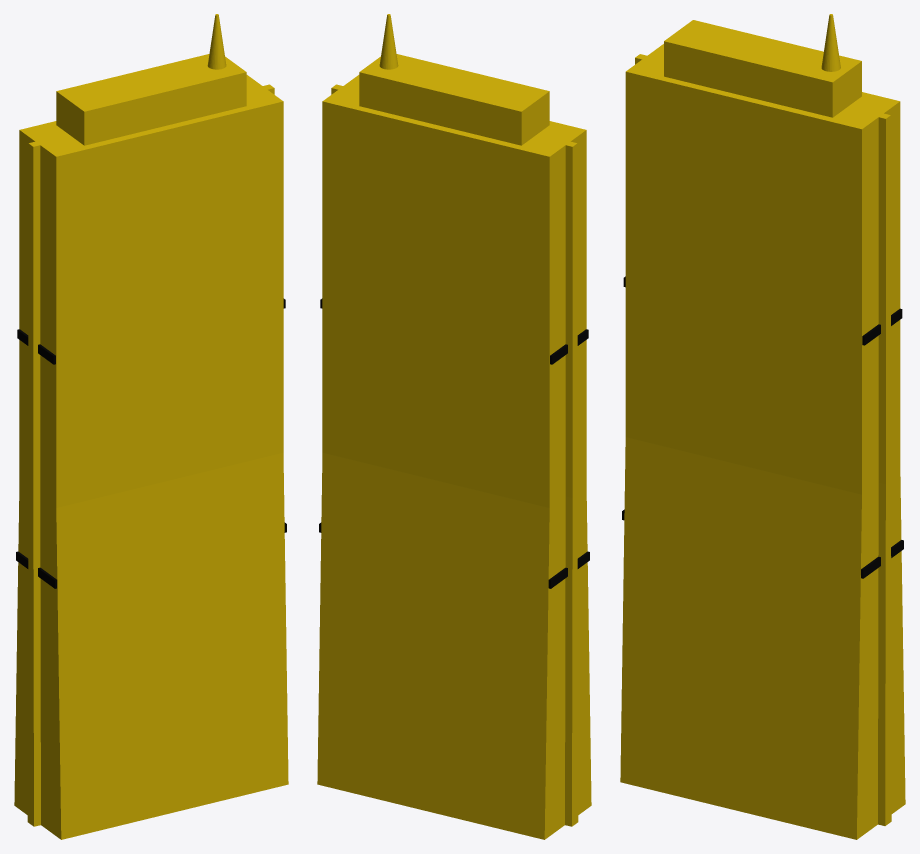
The model's file is Building63.glb.
3 renders of one model, left to right at view 1: azimuth 30°, elevation 25°; view 2: azimuth 150°, elevation 25°; view 3: azimuth 330°, elevation 25°, orthographic. The views are drawn at different scales.
Parts seen in each view (by area): view 1: Cube.004; view 2: Cube.004; view 3: Cube.004.
Boxes of the visible parts, x1,y1,x2,y2 form: Cube.004: [14, 14, 288, 839]; Cube.004: [317, 14, 591, 839]; Cube.004: [620, 14, 905, 839].
Size of the model in its own units: 1.49 by 4.5 by 0.5.
